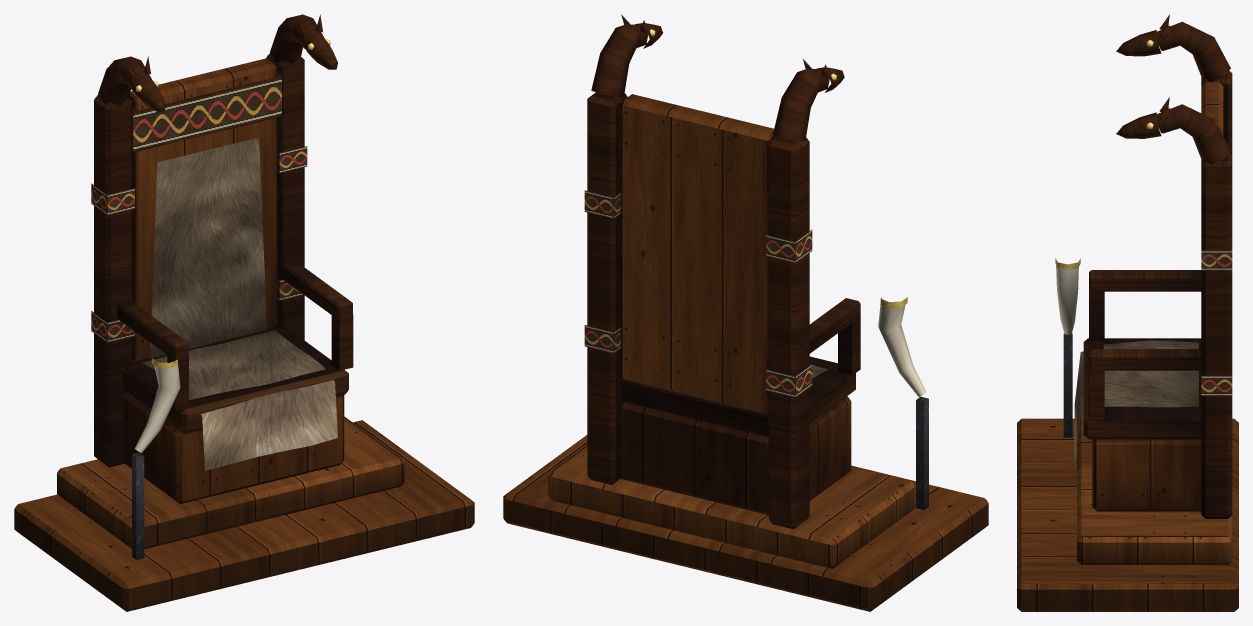
Rendered from interior_high_seat.glb.
3 renders of one model, left to right at view 1: azimuth 30°, elevation 25°; view 2: azimuth 150°, elevation 25°; view 3: azimuth 270°, elevation 25°, orthographic. The views are drawn at different scales.
Parts seen in each view (by area): view 1: interior_high_seat; view 2: interior_high_seat; view 3: interior_high_seat.
Part boxes in pixels (bbox=[...]): interior_high_seat: bbox=[14, 14, 474, 611]; interior_high_seat: bbox=[503, 14, 988, 611]; interior_high_seat: bbox=[1017, 14, 1238, 611].
Bounding box in the file's own units: 1.8 × 2.33 × 1.
Materials: 7 (6 with a texture image).
